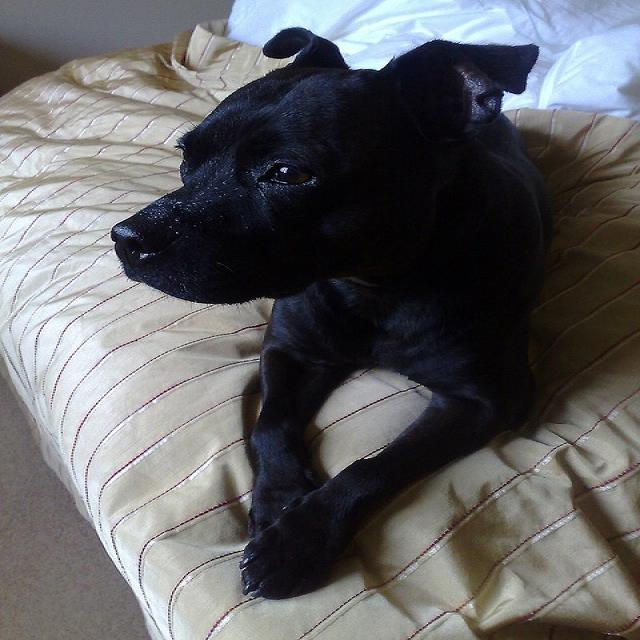dog: (105, 25, 566, 581)
